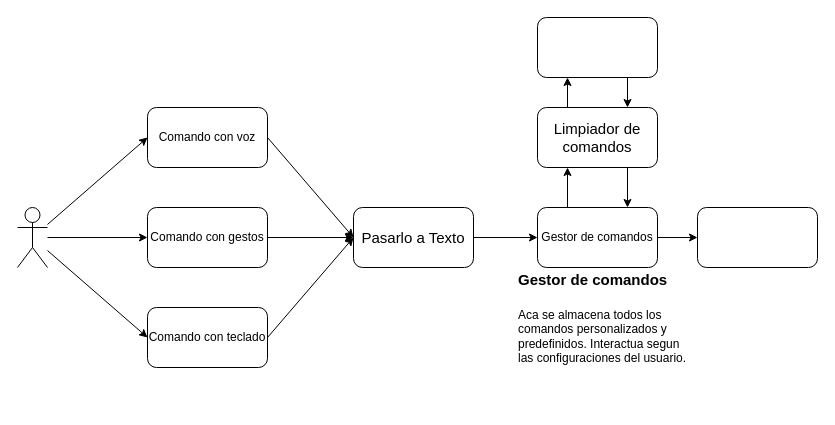
This 835x425 diagram has some shape labels left out. Each missing label, with the centre of its shape:
"Actor" belongs at (x=32, y=237).
"Ejecutar comando" belongs at (x=757, y=237).
"IA activa" belongs at (x=597, y=47).
